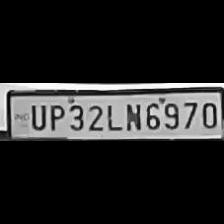0: (198, 99, 218, 129)
2: (86, 101, 104, 131)
3: (66, 102, 84, 131)
6: (142, 99, 160, 130)
7: (180, 98, 196, 130)
9: (160, 99, 180, 130)
L: (104, 100, 120, 132)
N: (123, 100, 141, 132)
P: (46, 101, 64, 131)
U: (28, 102, 46, 131)
